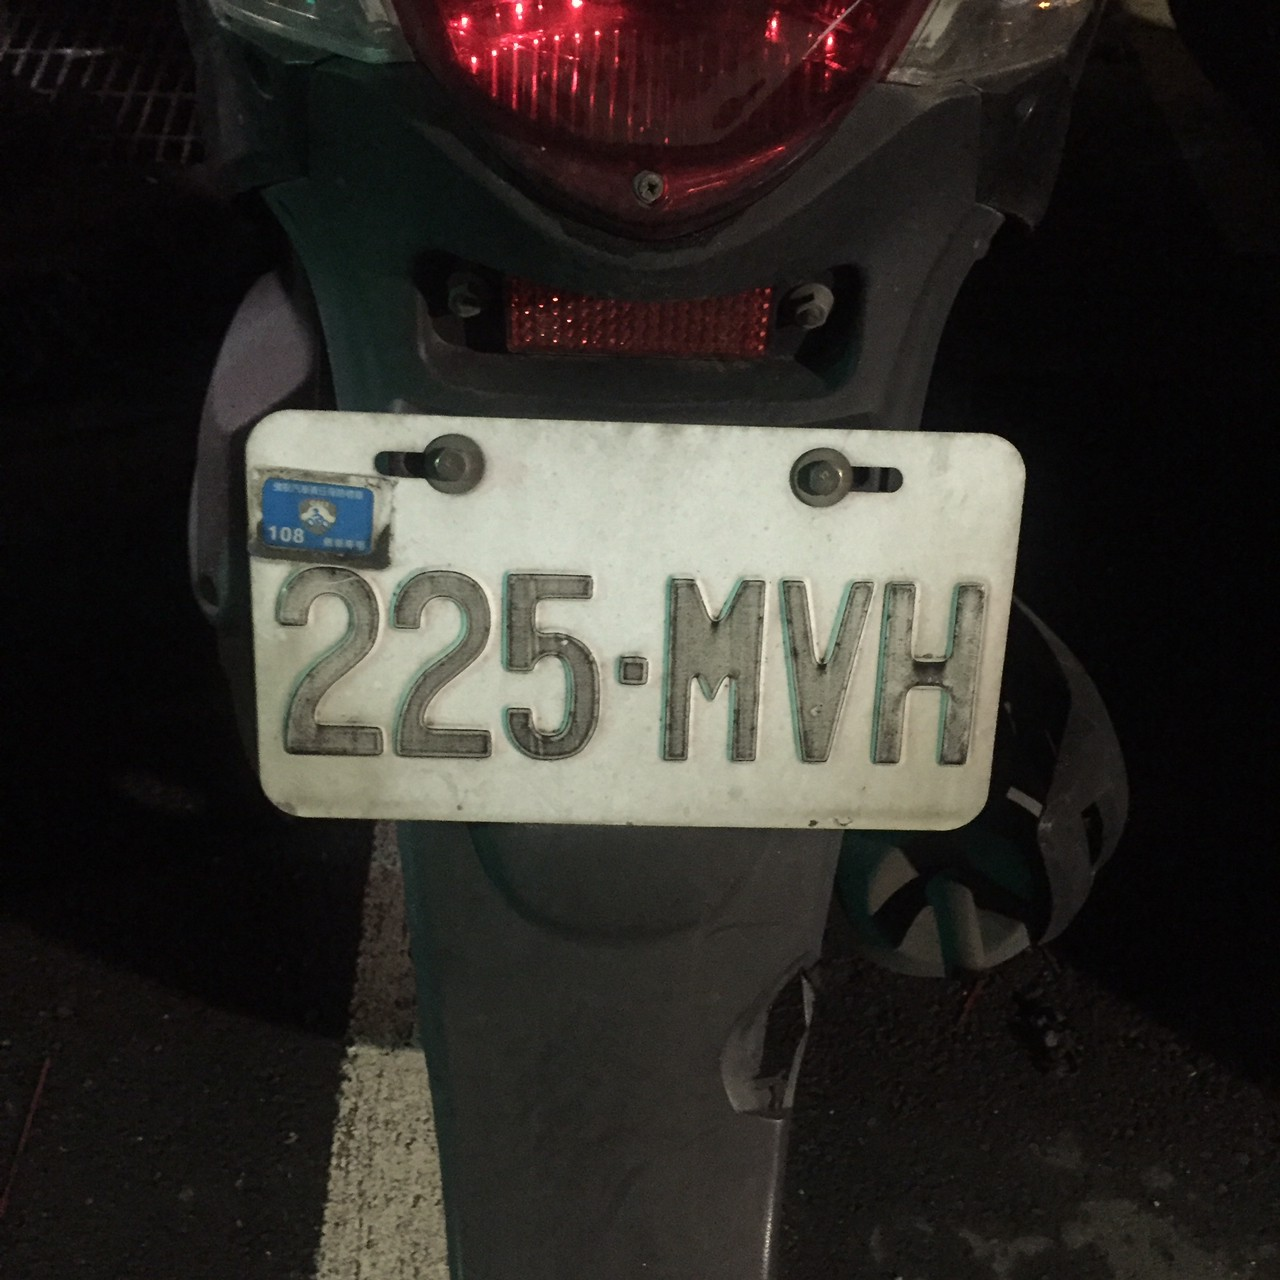LP: (246, 398, 1024, 837)
